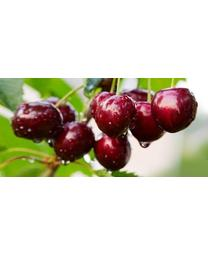cherry: (150, 88, 198, 133), (10, 101, 63, 139), (52, 121, 93, 161), (95, 94, 134, 136), (93, 131, 132, 170), (129, 101, 163, 142)
